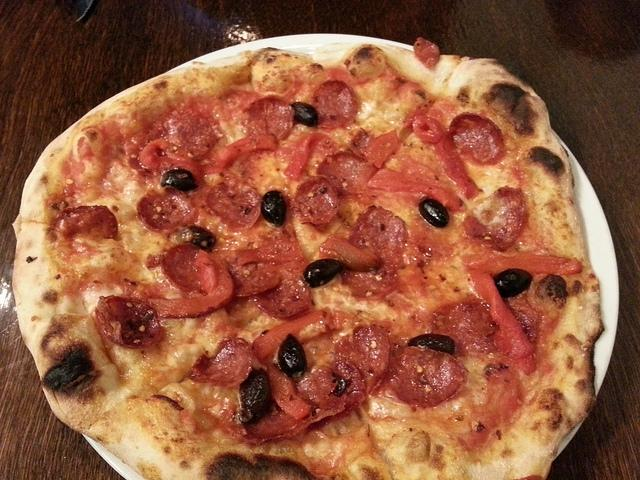bell pepper: (468, 270, 534, 360), (412, 114, 480, 200), (142, 260, 235, 318), (252, 306, 334, 364), (366, 167, 461, 213), (461, 251, 583, 279), (283, 133, 336, 181), (210, 134, 279, 168), (319, 234, 379, 271), (384, 152, 438, 180), (364, 129, 402, 168), (140, 139, 188, 169)
